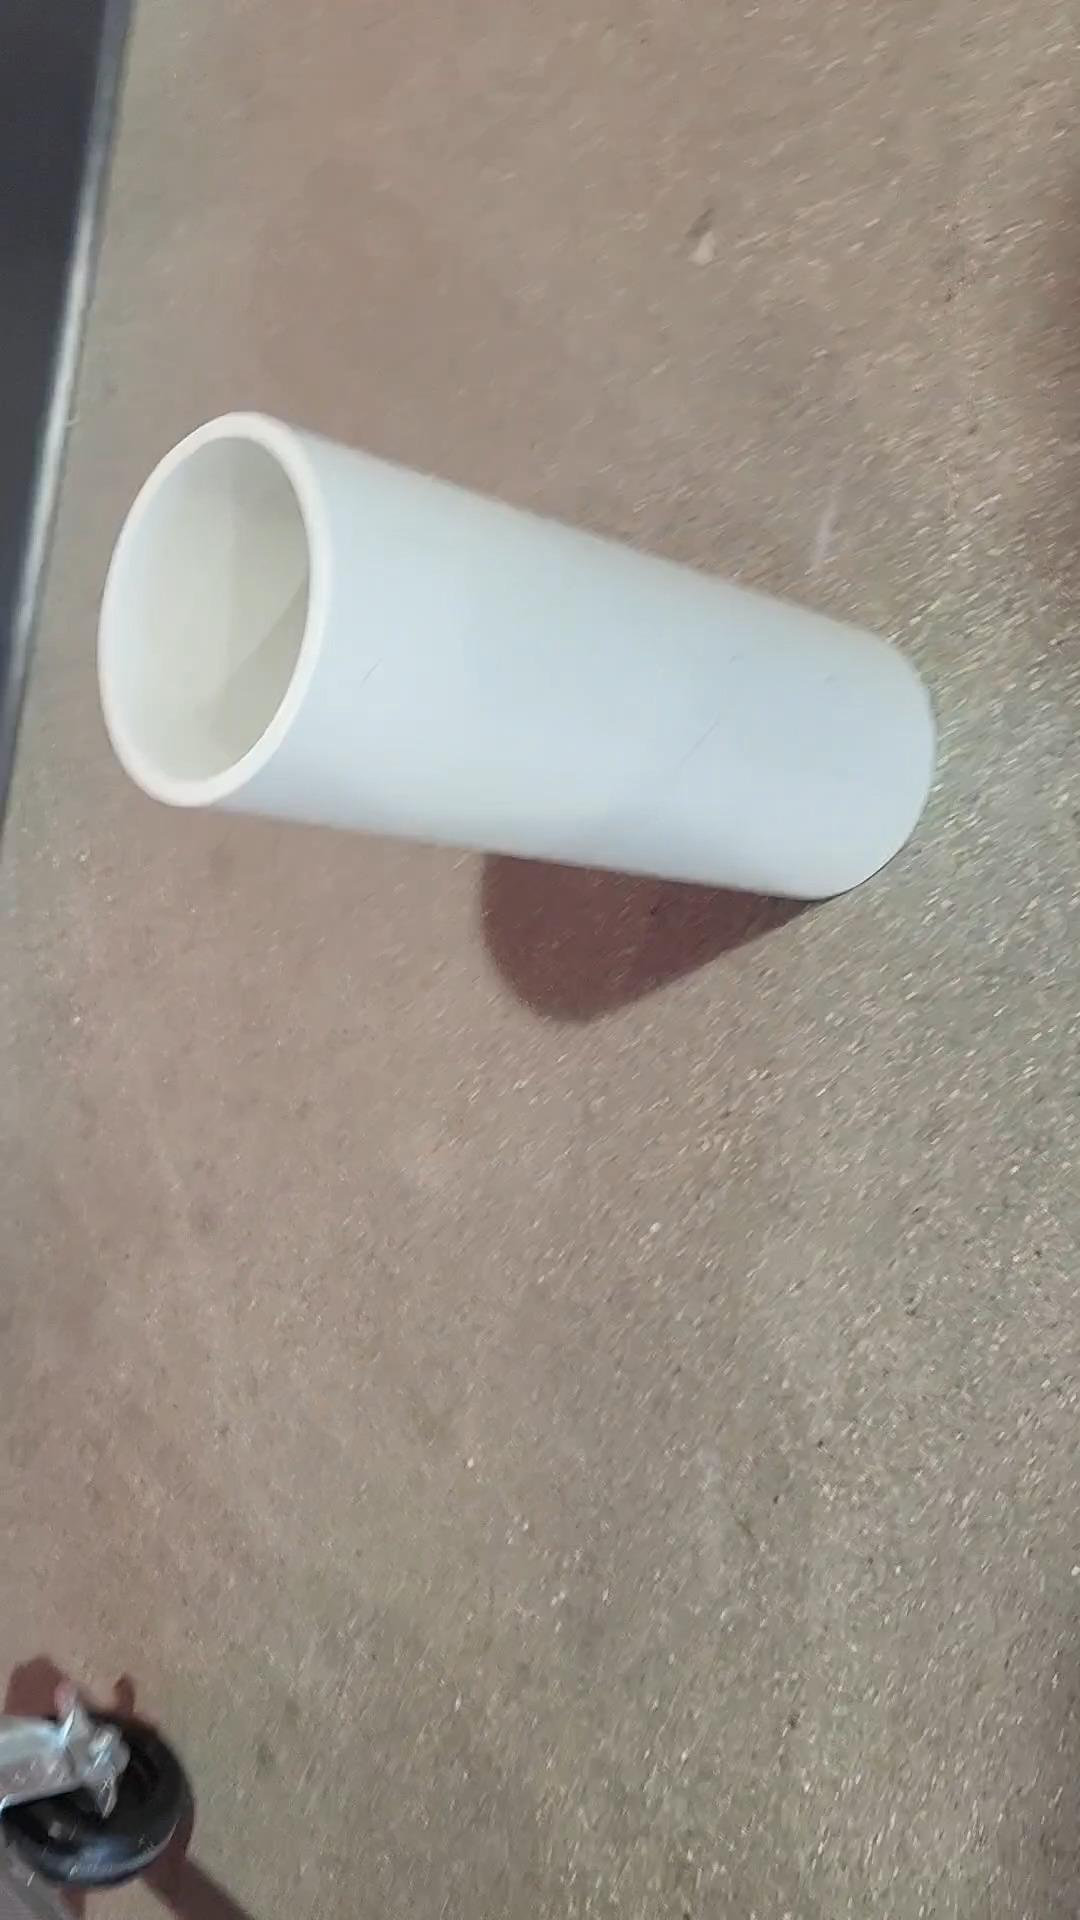coral: (97, 415, 930, 900)
